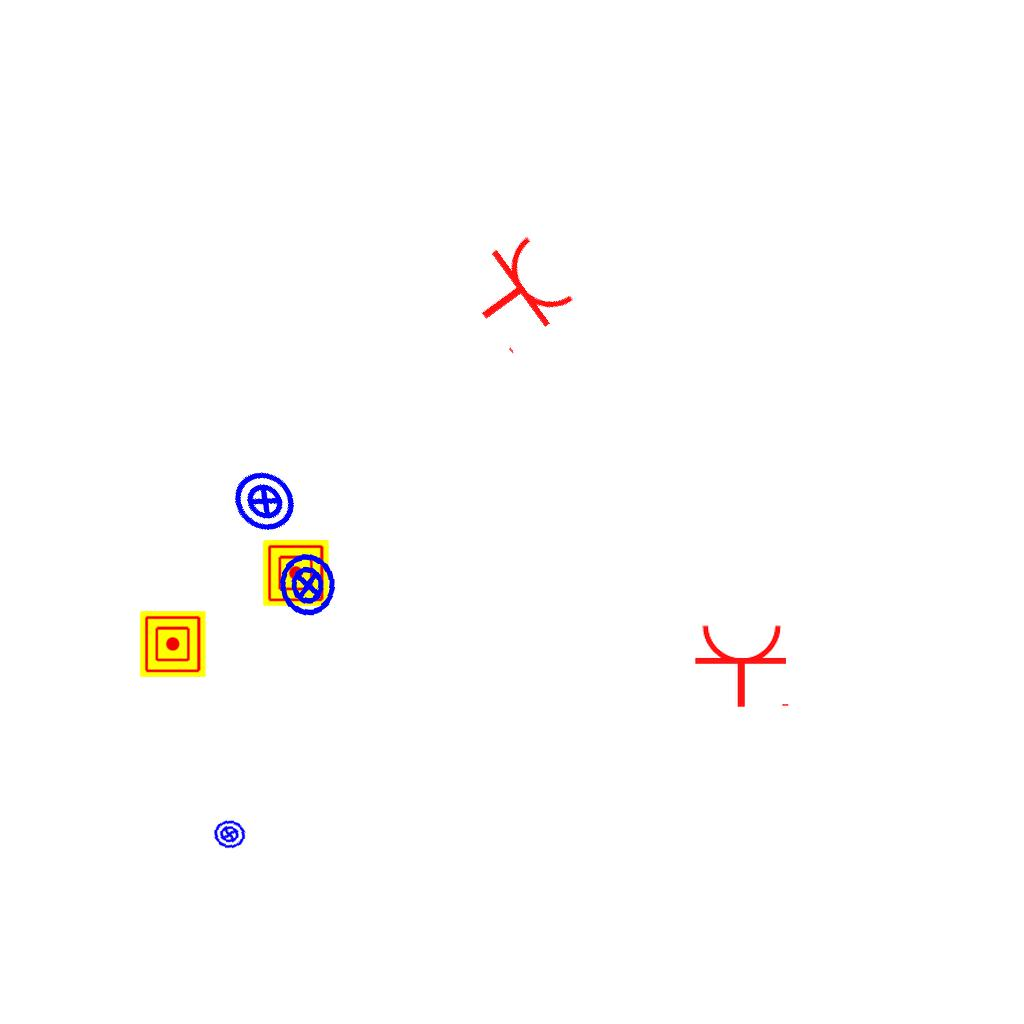NAM-Nichtautomatischer_Melder: (140, 611, 206, 677), (263, 540, 329, 606)
Schukosteckdose_einfach: (453, 226, 584, 360), (693, 622, 793, 709)
Taster_beleuchtet: (218, 454, 312, 548), (271, 548, 345, 622), (210, 815, 249, 854)
